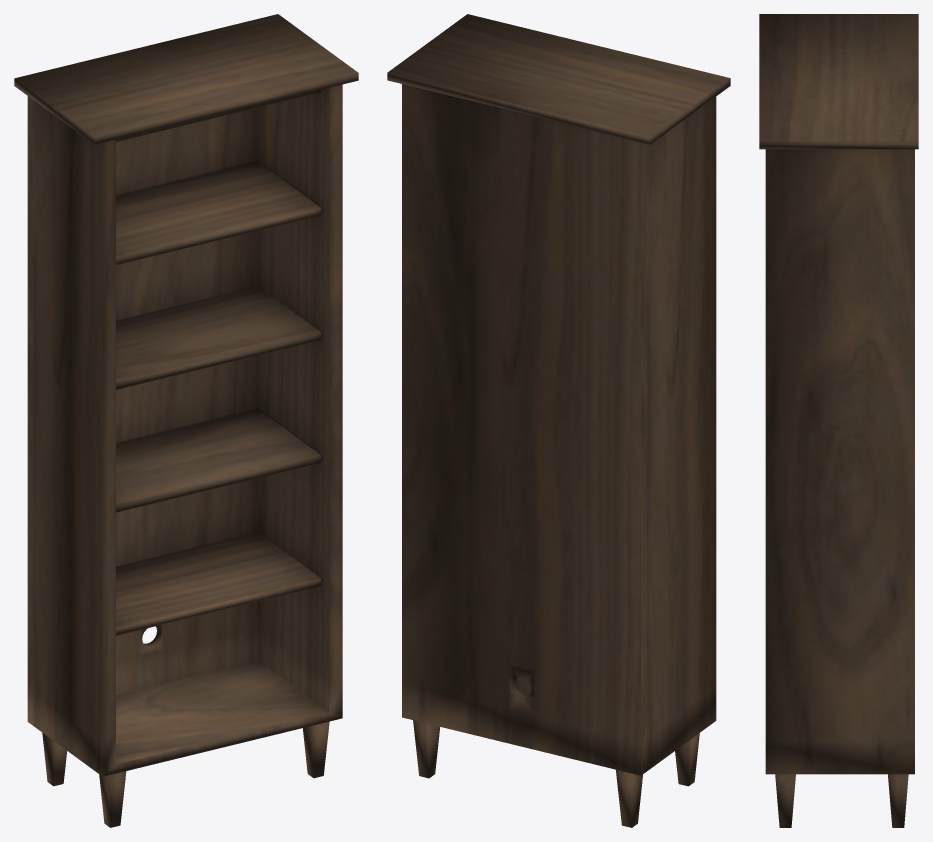
File: cb-kendallbookcasewalnut_baked.glb
3 views of the same model, side by side, from view 1: azimuth 30°, elevation 25°; view 2: azimuth 150°, elevation 25°; view 3: azimuth 270°, elevation 25° (orthographic).
Parts seen in each view (by area): view 1: Mesh_0.015; view 2: Mesh_0.015; view 3: Mesh_0.015.
Part boxes in pixels (x1,y1,x2,y2): Mesh_0.015: (14,14,358,827); Mesh_0.015: (387,14,730,827); Mesh_0.015: (759,14,918,827).
Bounding box in the file's own units: 72.26 × 184 × 38.19.
Materials: 1 (1 with a texture image).
